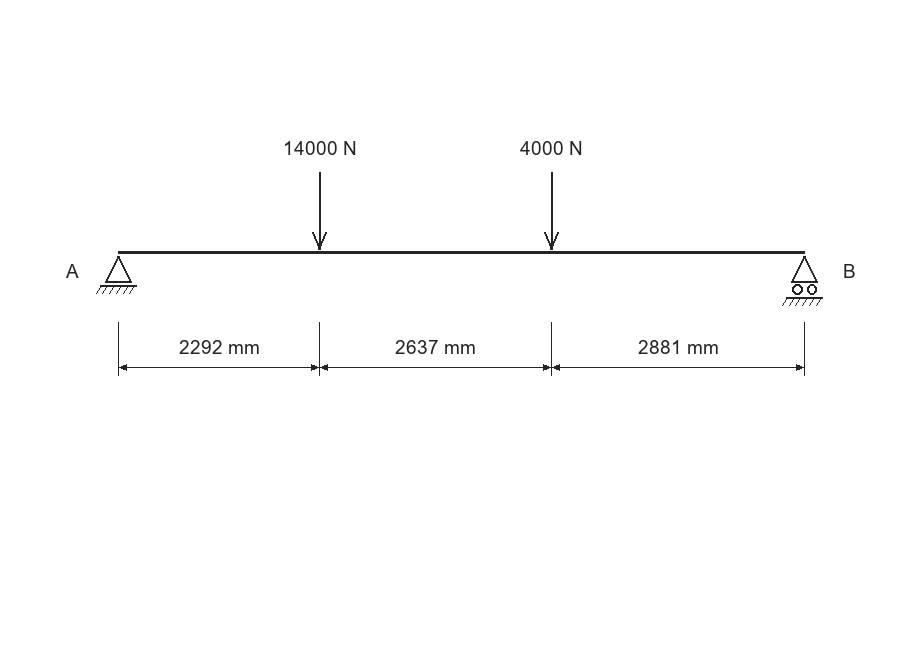pin_support: (96, 256, 137, 294)
point_load: (312, 172, 327, 250), (544, 172, 559, 250)
roller_support: (782, 256, 823, 306)
